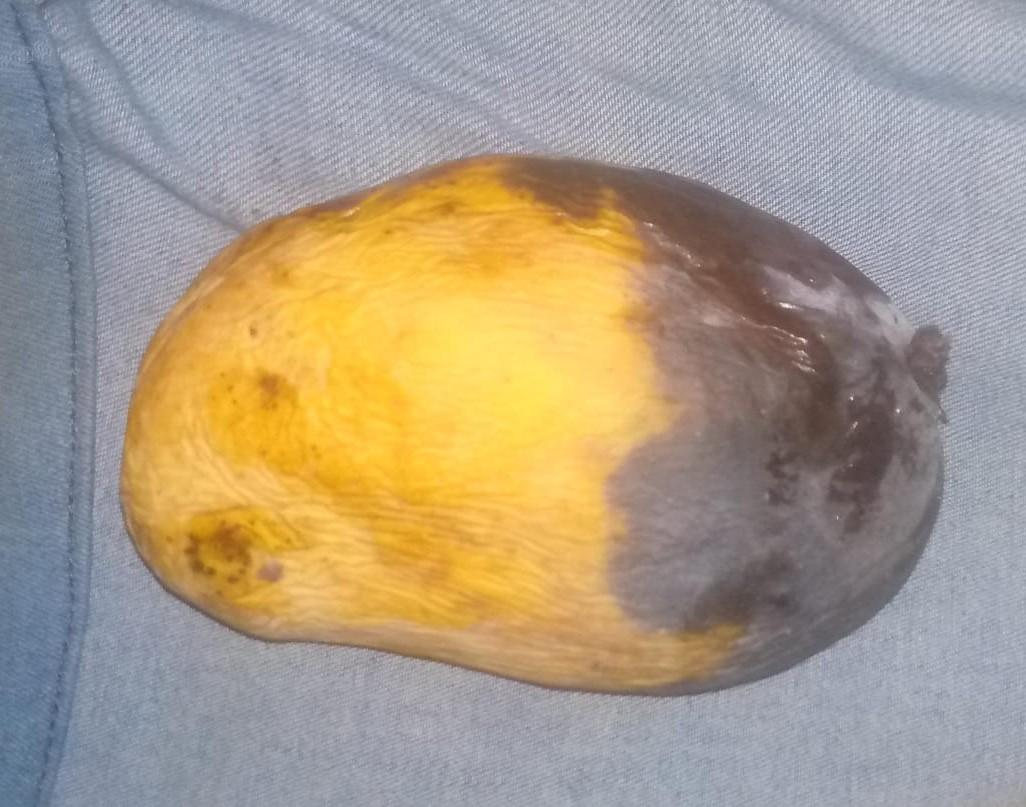mango: (118, 151, 950, 697)
